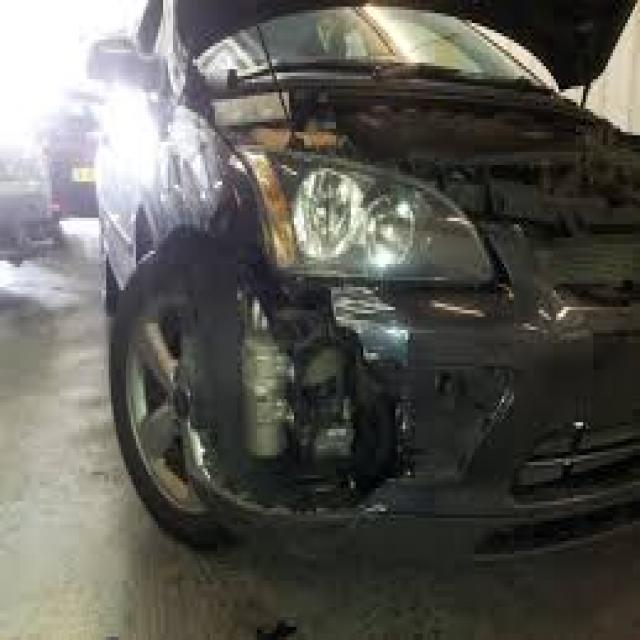moderate: (104, 23, 640, 633)
